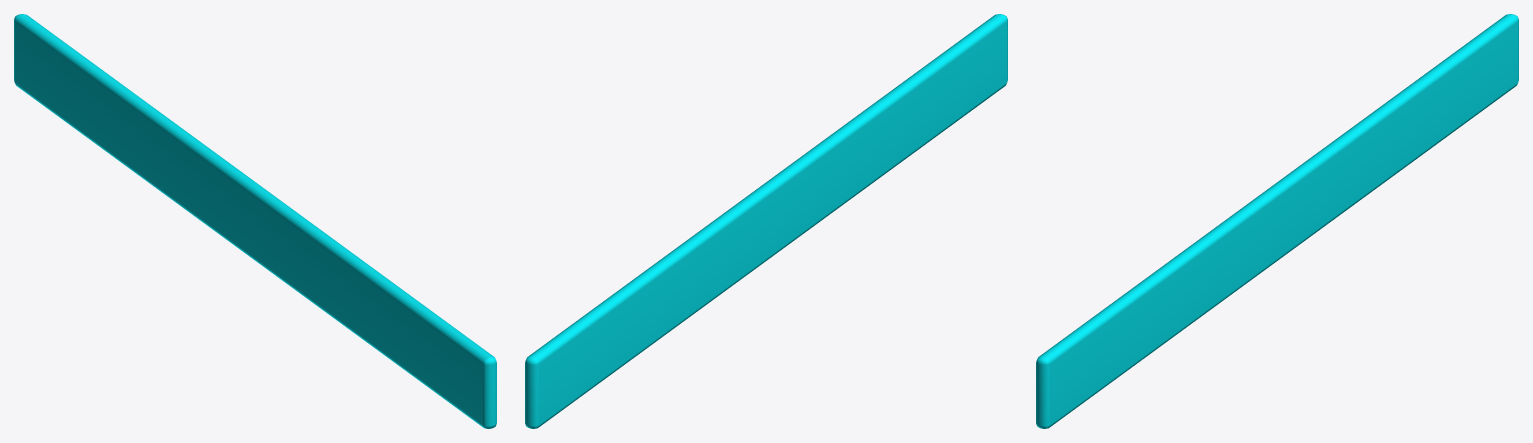
File: aero_rear_wing_endplate_turquoise_accent_r.glb
The picture shows the model from 3 angles, left to right: view 1: azimuth 30°, elevation 25°; view 2: azimuth 150°, elevation 25°; view 3: azimuth 330°, elevation 25°; orthographic projection.
Parts seen in each view (by area): view 1: AERO_Rear_Wing_Endplate_Turquoise_Accent_R; view 2: AERO_Rear_Wing_Endplate_Turquoise_Accent_R; view 3: AERO_Rear_Wing_Endplate_Turquoise_Accent_R.
Boxes of the visible parts, x1,y1,x2,y2 form: AERO_Rear_Wing_Endplate_Turquoise_Accent_R: [14, 14, 496, 428]; AERO_Rear_Wing_Endplate_Turquoise_Accent_R: [525, 14, 1007, 428]; AERO_Rear_Wing_Endplate_Turquoise_Accent_R: [1036, 14, 1518, 428].
Size of the model in its own units: 0.008 by 0.04 by 0.48.
